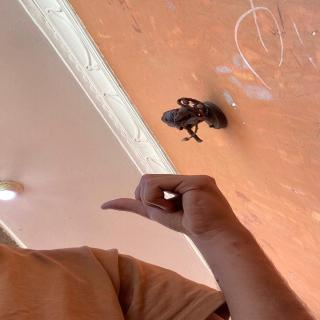WAW: (94, 167, 242, 238)
